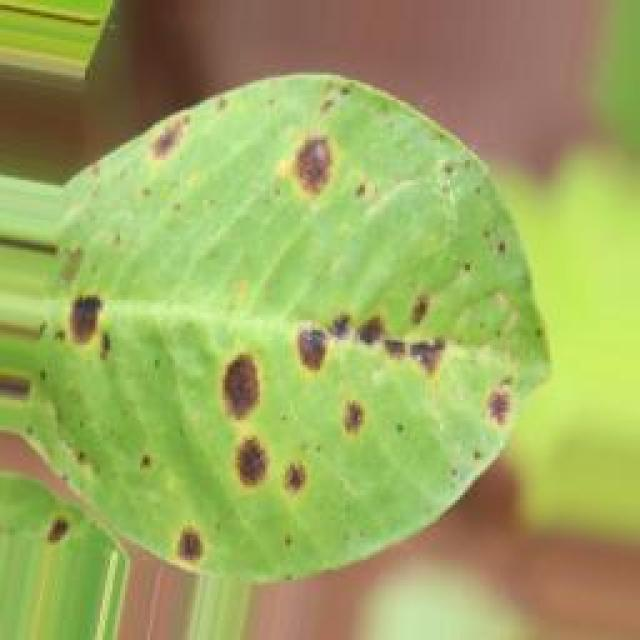Yellowish: (36, 78, 546, 585)
